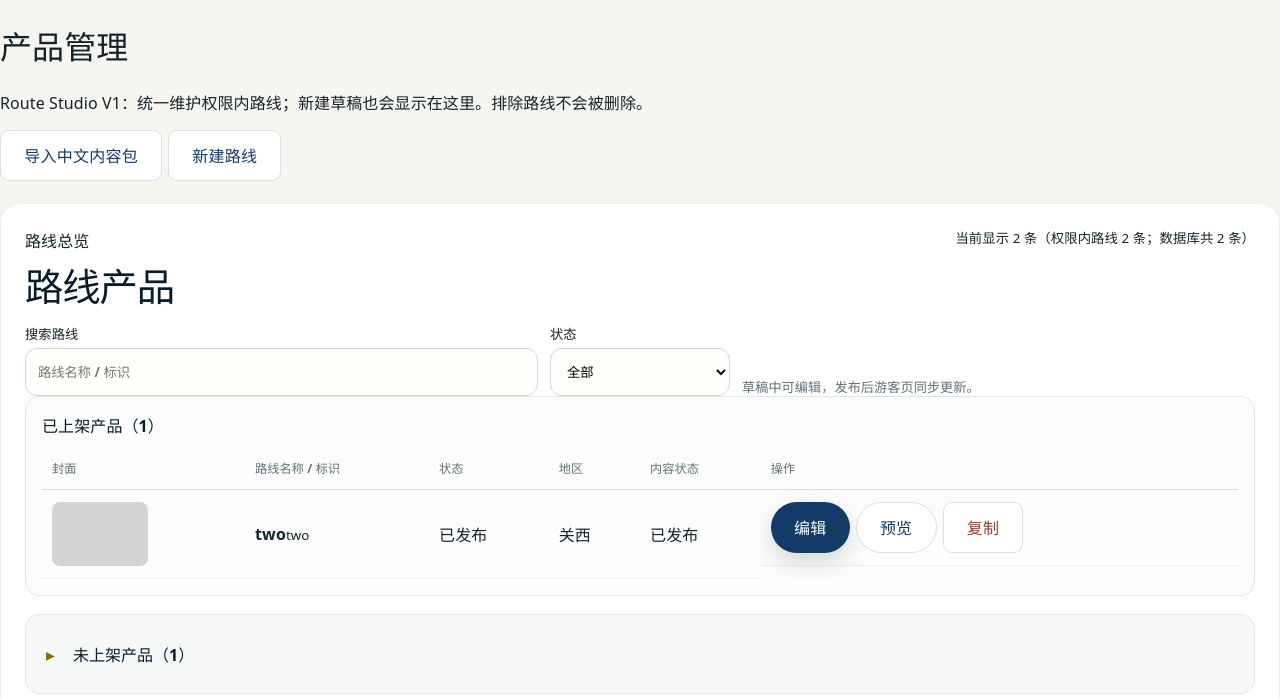
it: 产品列表分区 › 下架或正式发布后重新读取即更新分组
Expected: the heading "已上架产品（1）" is shown, [42, 415, 164, 437]
Expected: the element named "已上架产品表格" shows "two", [255, 523, 286, 545]
Click the button "▸ 未上架产品（1）" at (121, 655), box [42, 631, 1238, 677]
(page scrolled)
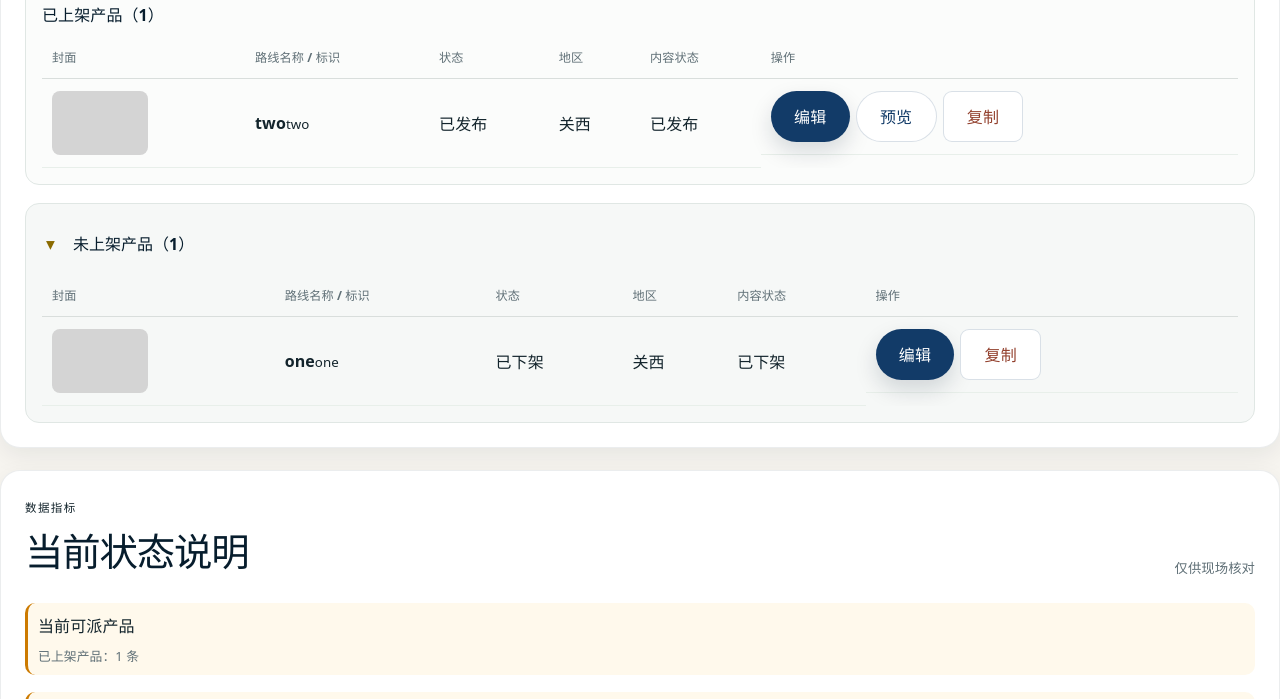
Expected: the element named "未上架产品表格" shows "one", [285, 350, 315, 372]
